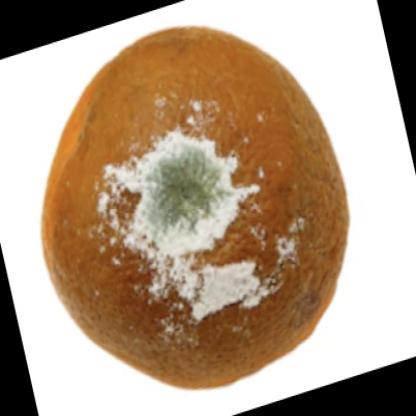rotten: (44, 26, 349, 389)
